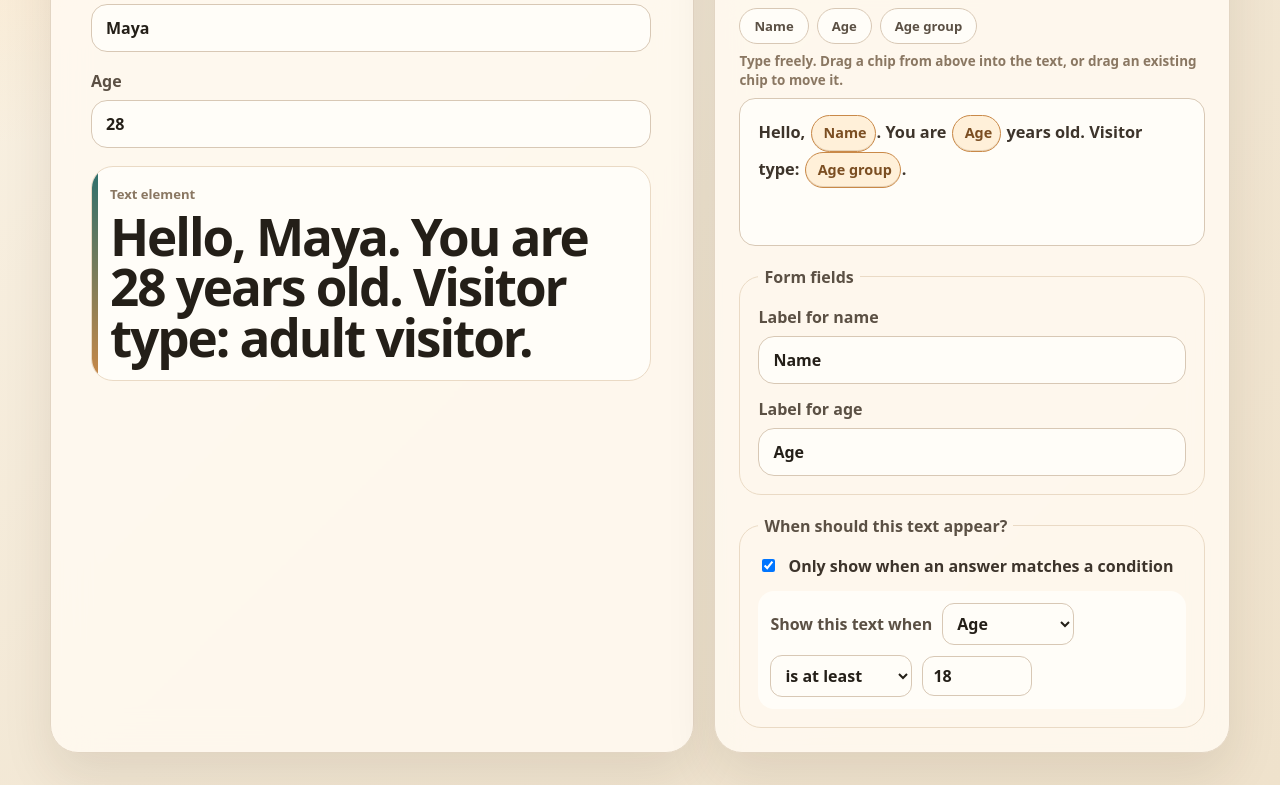
Test: App › shows comparison options that match the selected answer type
(page scrolled)
Select "Name" in the dropdown named "answer to check" at x=1008, y=624, box 942,603 -> 1074,645
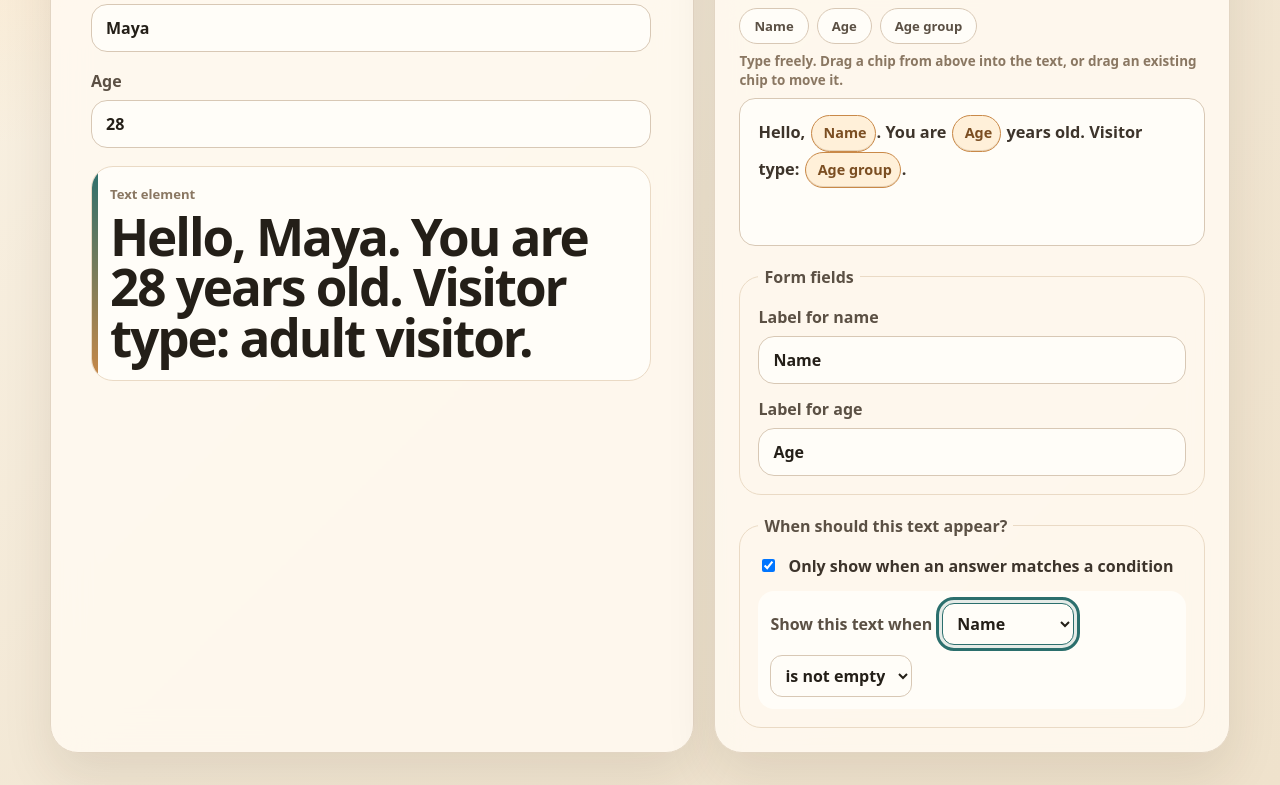
Expected: the text "is at least" is not shown
Expected: the dropdown named "how to compare" shows "is not empty", 770,655 -> 912,697
